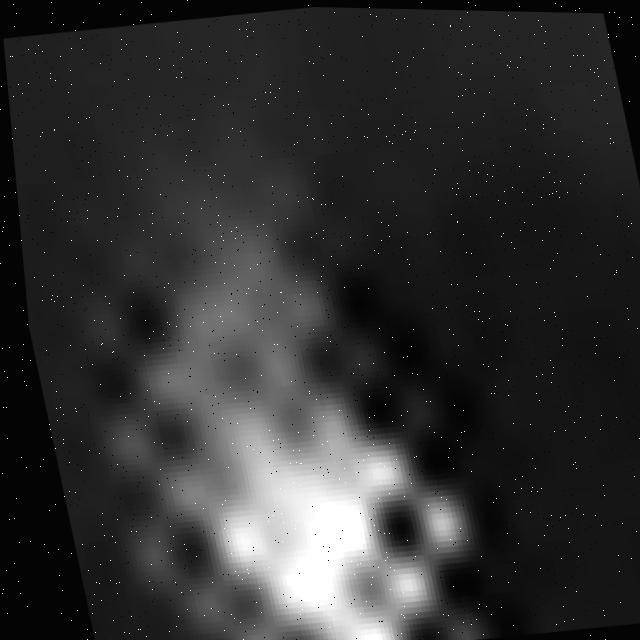person: (79, 165, 500, 640)
